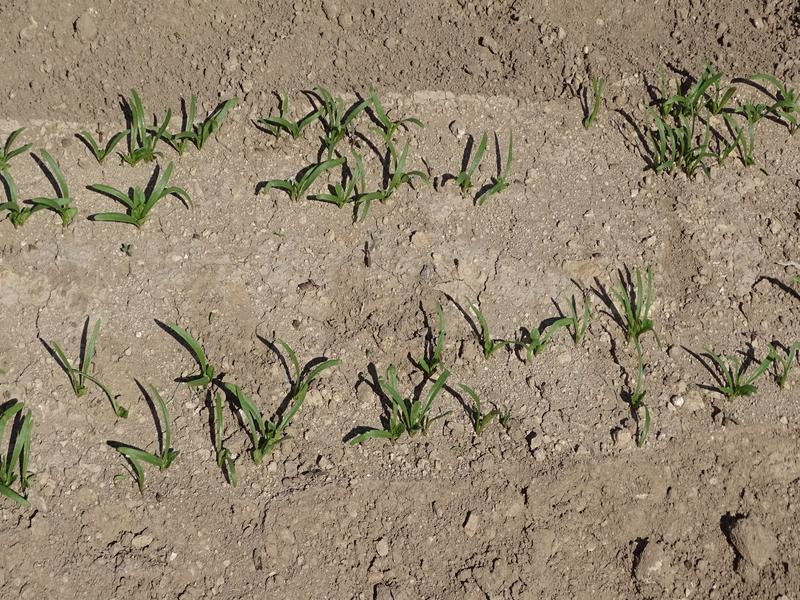Espinaca: (88, 92, 530, 230), (157, 323, 324, 459), (643, 75, 797, 166), (360, 310, 458, 439), (1, 132, 76, 232), (470, 303, 574, 359), (709, 332, 800, 394), (112, 397, 179, 470), (1, 401, 48, 492), (606, 277, 659, 341), (627, 367, 661, 441), (66, 329, 107, 390), (463, 384, 500, 438)
